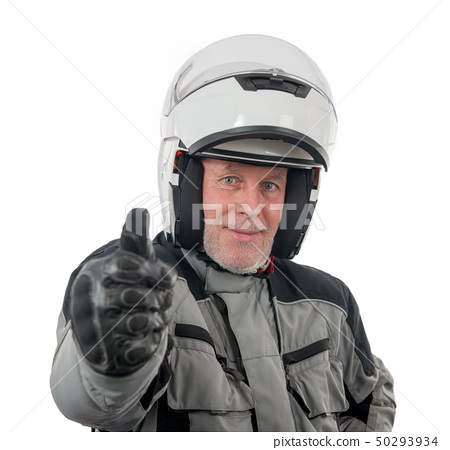helmet: (152, 48, 344, 248)
